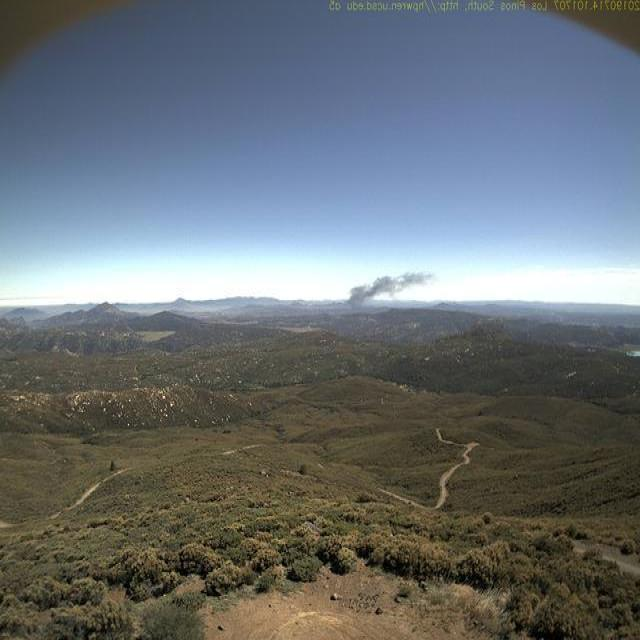Smoke: (347, 257, 441, 308)
